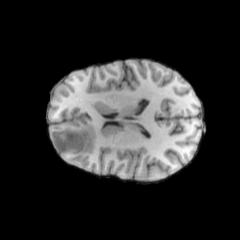glioma: (50, 123, 95, 154)
